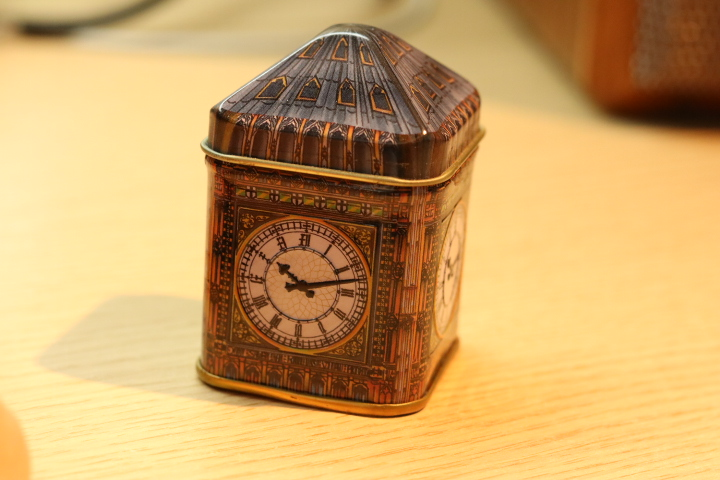Big Ben: (193, 17, 500, 424)
